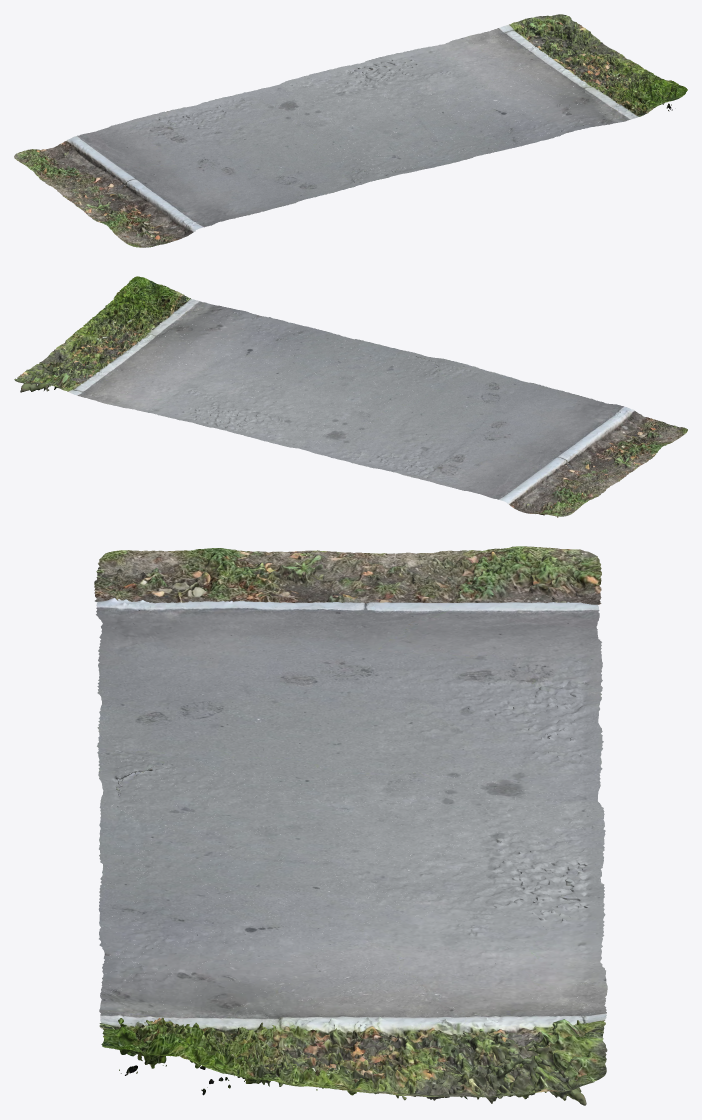
File: road-03.glb
3 views of the same model, one above another, from view 1: azimuth 30°, elevation 25°; view 2: azimuth 150°, elevation 25°; view 3: azimuth 270°, elevation 25° (orthographic). The views are drawn at different scales.
Visible parts, largest first — view 1: Object_2, Object_3, Object_4; view 2: Object_2, Object_3, Object_4; view 3: Object_2, Object_3, Object_4.
Boxes of the visible parts, x1=… form: Object_2: x1=14, y1=16, x2=649, y2=247; Object_3: x1=53, y1=14, x2=687, y2=172; Object_4: x1=260, y1=78, x2=423, y2=179; Object_2: x1=39, y1=293, x2=687, y2=517; Object_3: x1=14, y1=276, x2=546, y2=504; Object_4: x1=263, y1=351, x2=456, y2=453; Object_2: x1=94, y1=546, x2=607, y2=1075; Object_3: x1=98, y1=569, x2=607, y2=1105; Object_4: x1=98, y1=756, x2=604, y2=843.
Bounding box in the file's own units: 6.71 × 0.339 × 2.66.
Materials: 1 (1 with a texture image).
